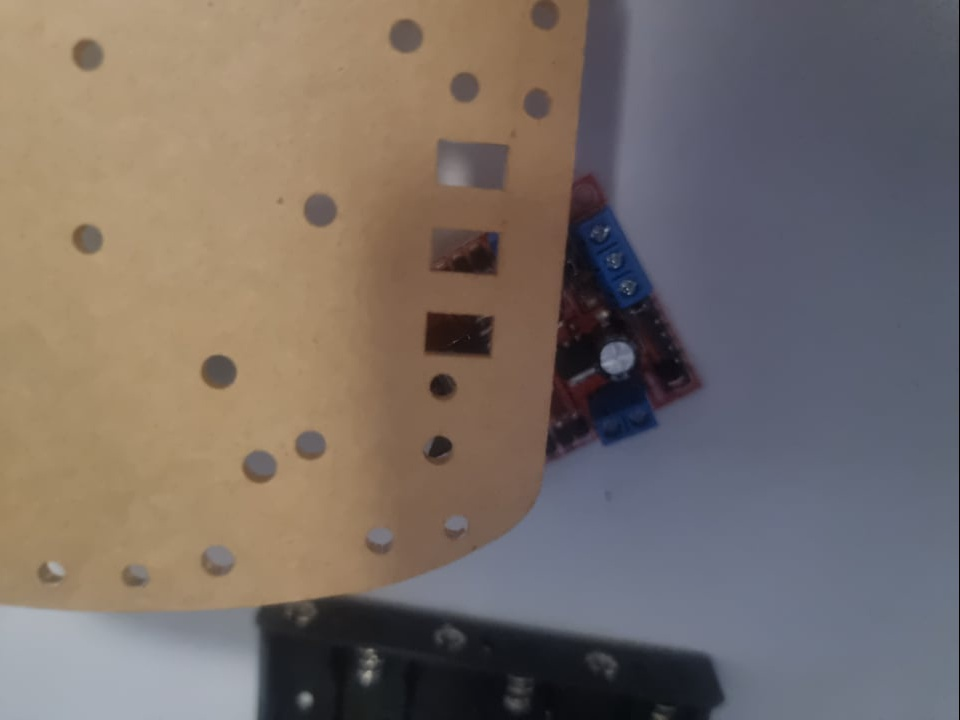BATTERY BOX: (238, 590, 731, 720)
MOTOR: (438, 158, 708, 469)
